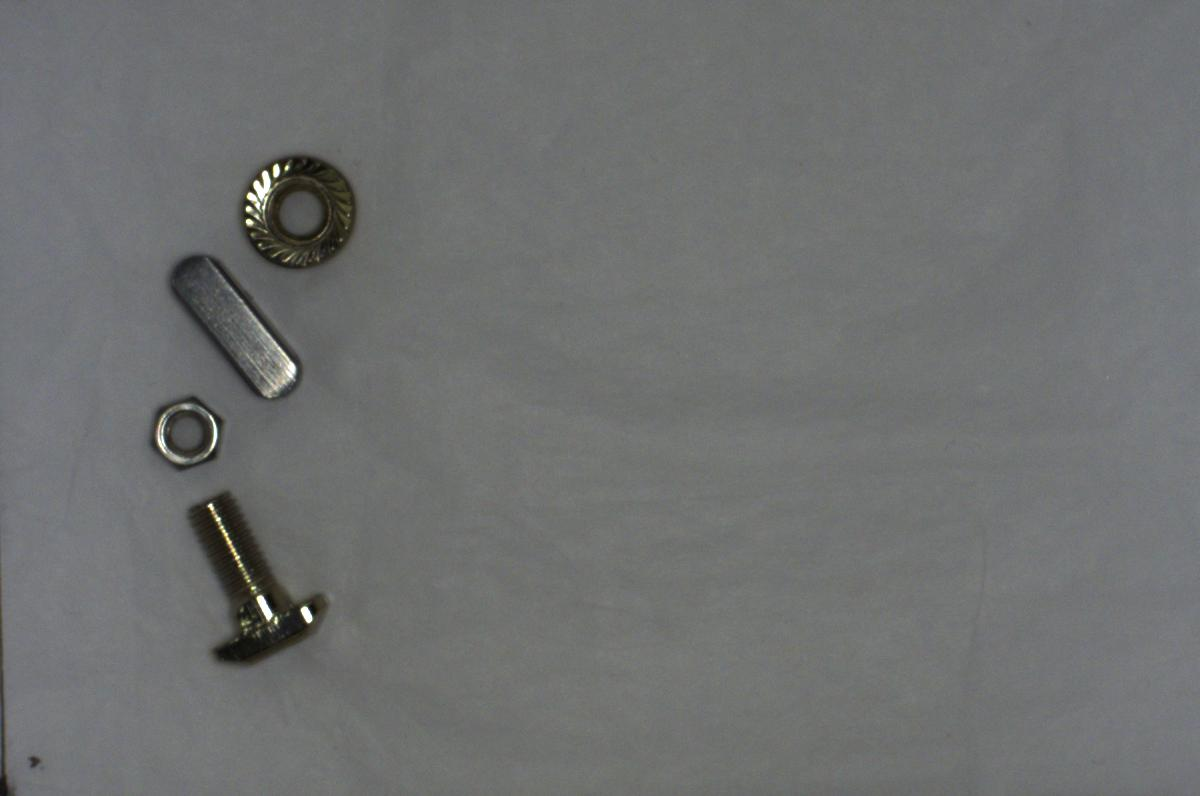Flange nut: (232, 147, 361, 275)
Hexagon nut: (139, 394, 231, 473)
Keybar: (164, 249, 304, 412)
T-shaped screw: (184, 485, 338, 672)
